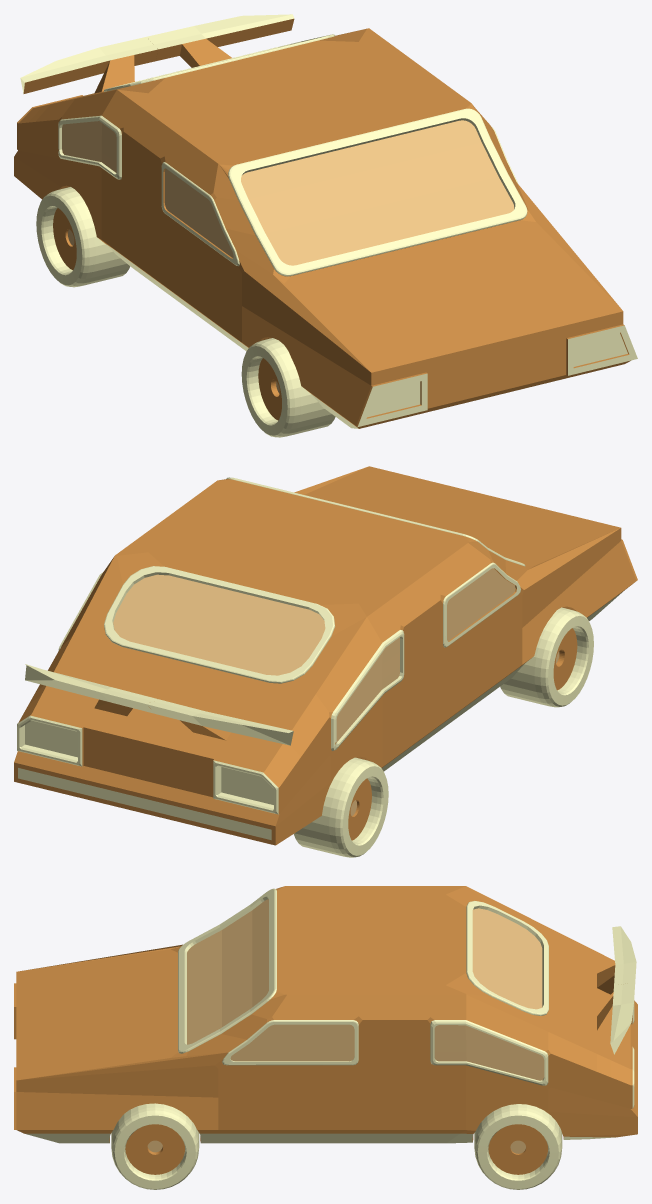
File: Car 2.fbx
The picture shows the model from 3 angles, top to bottom: view 1: azimuth 30°, elevation 25°; view 2: azimuth 150°, elevation 25°; view 3: azimuth 270°, elevation 25°; orthographic projection. The views are drawn at different scales.
Parts seen in each view (by area): view 1: Cylinder.001; view 2: Cylinder.001; view 3: Cylinder.001.
Boxes of the visible parts, x1,y1,x2,y2 form: Cylinder.001: [14, 14, 637, 437]; Cylinder.001: [14, 466, 637, 857]; Cylinder.001: [14, 886, 637, 1189].
Size of the model in its own units: 2.19 by 1.45 by 4.36.
